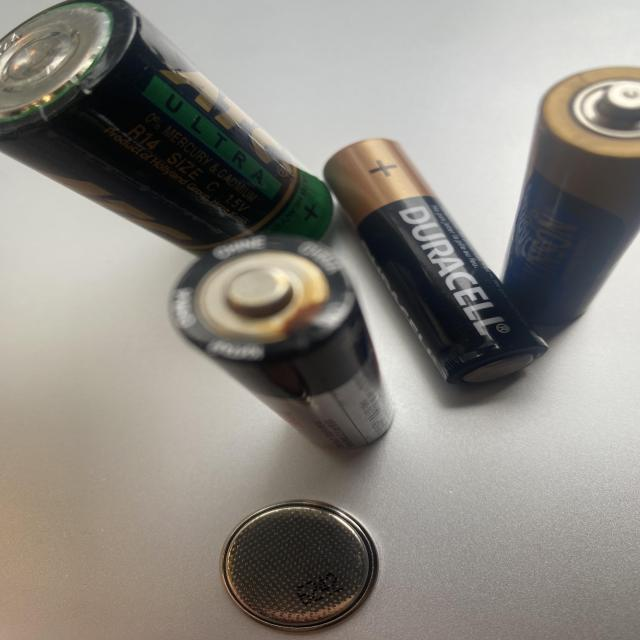COIN: (199, 495, 387, 640)
